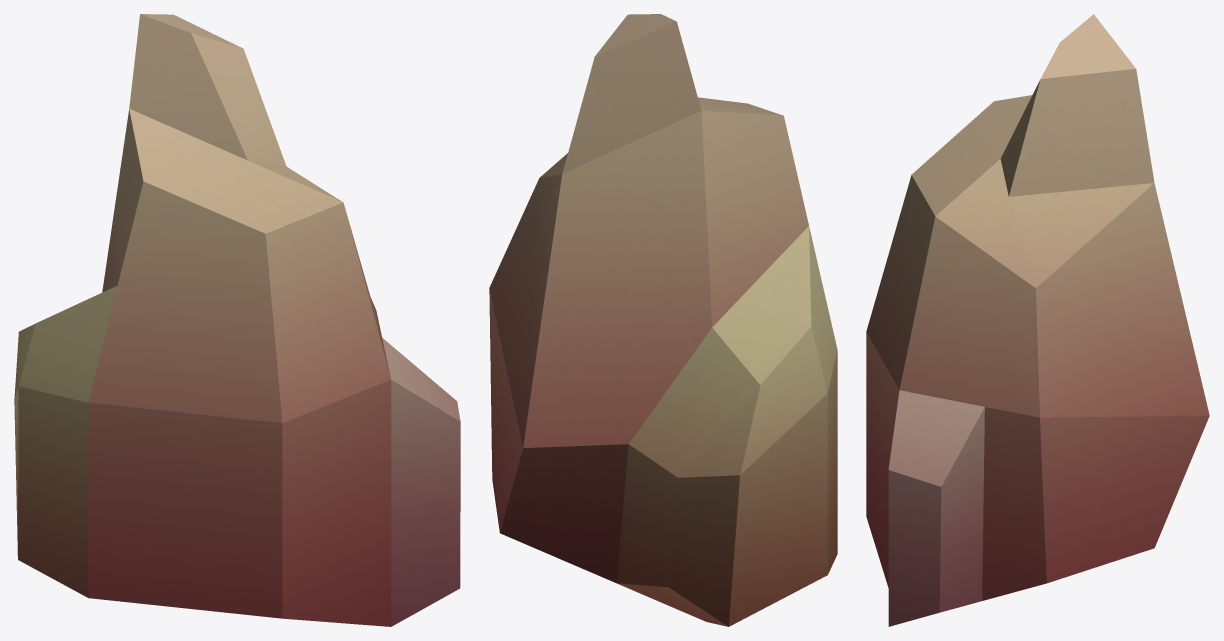
File: medium_rockb_dry.FBX
The picture shows the model from 3 angles, left to right: view 1: azimuth 30°, elevation 25°; view 2: azimuth 150°, elevation 25°; view 3: azimuth 270°, elevation 25°; orthographic projection. The views are drawn at different scales.
Parts seen in each view (by area): view 1: medium_rock_dry; view 2: medium_rock_dry; view 3: medium_rock_dry.
Part boxes in pixels (x1,y1,x2,y2): medium_rock_dry: [14, 14, 460, 626]; medium_rock_dry: [489, 14, 837, 626]; medium_rock_dry: [866, 14, 1209, 626].
Size of the model in its own units: 3.75 by 5.57 by 3.2.
